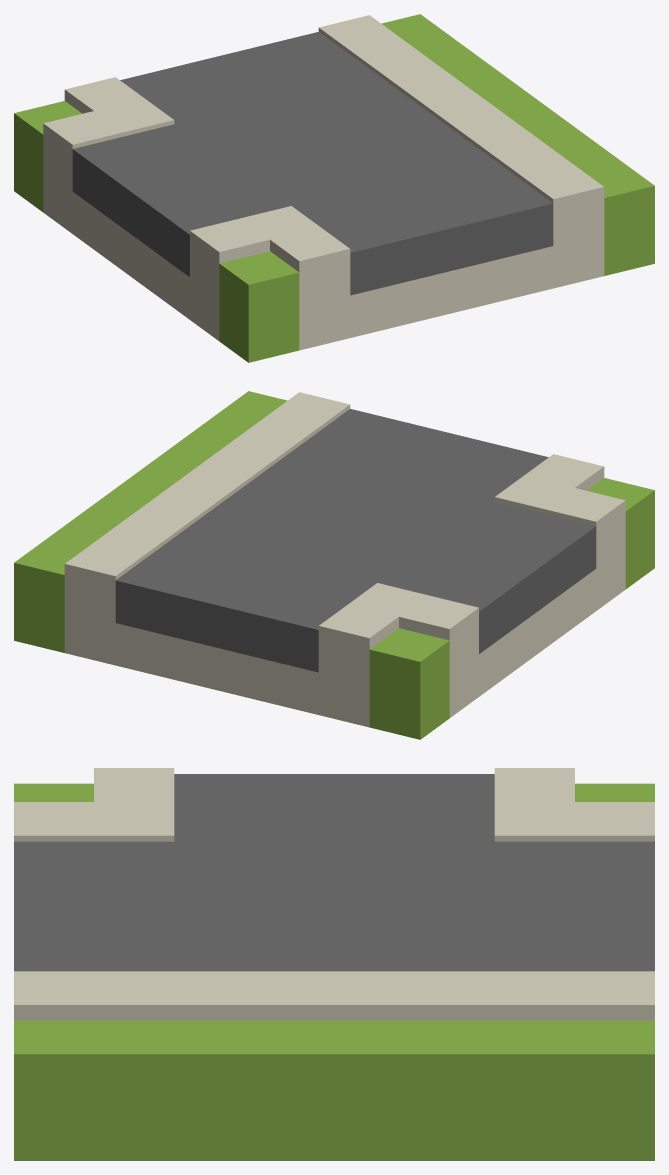
File: tile027.fbx
The picture shows the model from 3 angles, top to bottom: view 1: azimuth 30°, elevation 25°; view 2: azimuth 150°, elevation 25°; view 3: azimuth 270°, elevation 25°; orthographic projection. The views are drawn at different scales.
Visible parts, largest first — view 1: tile027; view 2: tile027; view 3: tile027.
Boxes of the visible parts, x1,y1,x2,y2 form: tile027: (14, 14, 654, 362); tile027: (14, 391, 654, 739); tile027: (14, 768, 654, 1160).
Bounding box in the file's own units: 10 × 2.1 × 10.
